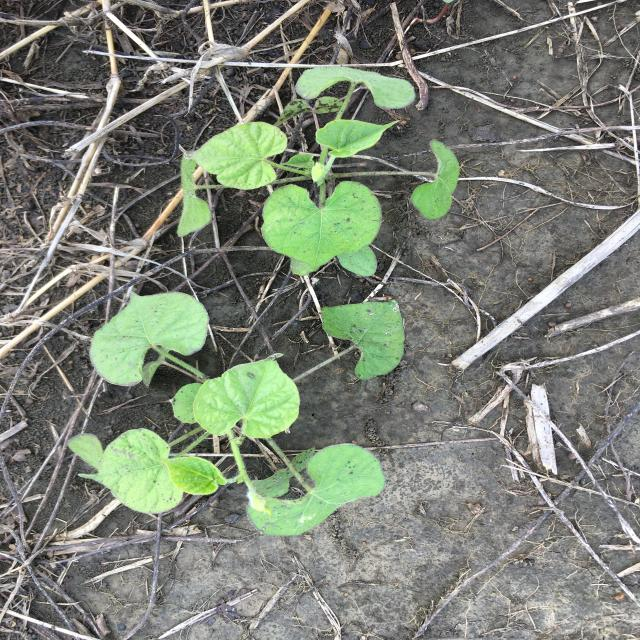MorningGlory: (66, 288, 408, 540), (174, 62, 464, 280)
